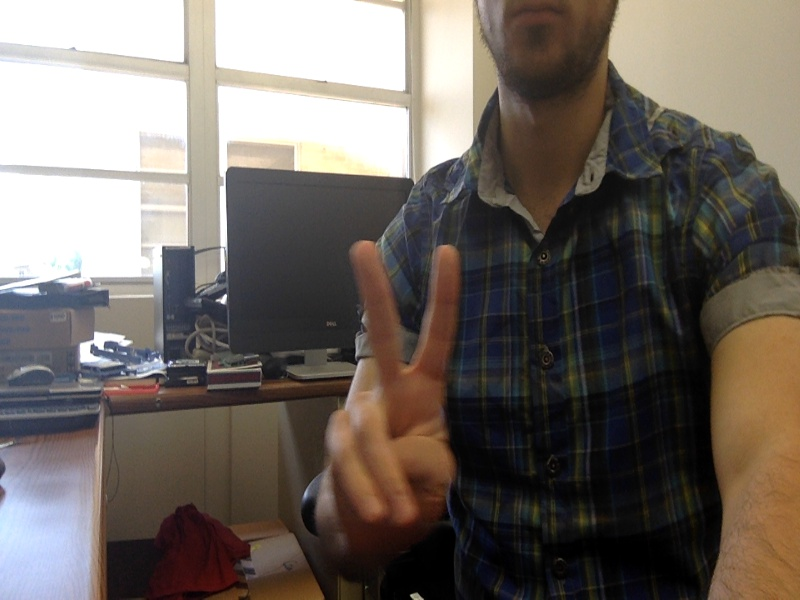2-hand: (318, 238, 467, 533)
